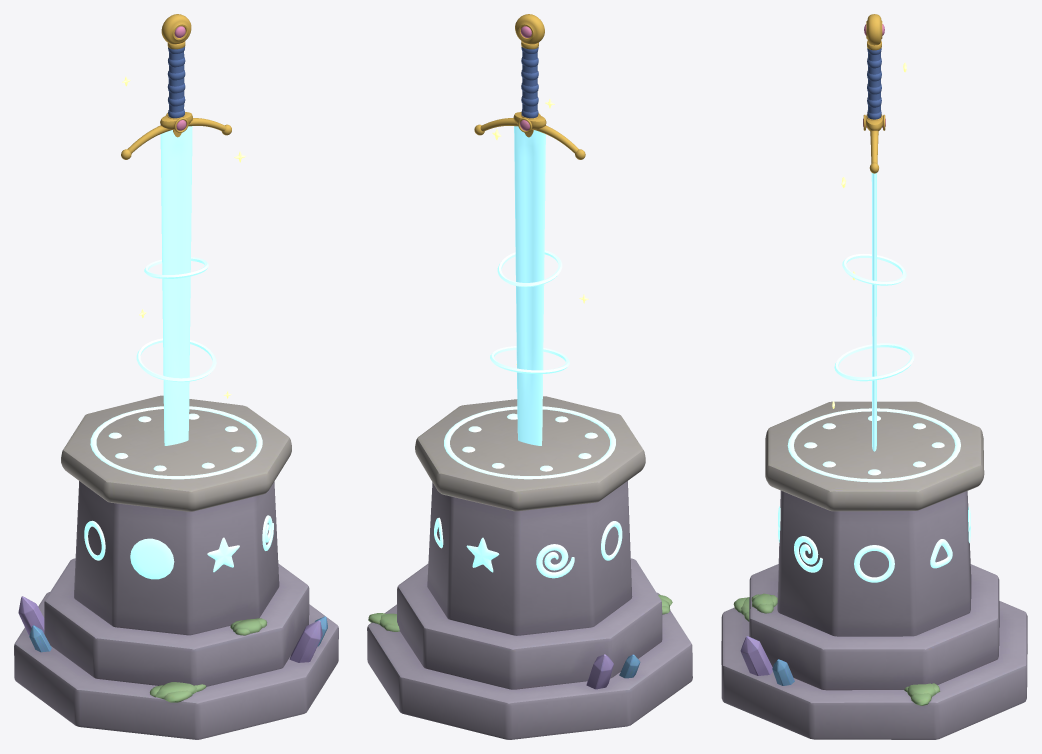
The model's file is enchanted-sword.glb.
3 views of the same model, side by side, from view 1: azimuth 30°, elevation 25°; view 2: azimuth 150°, elevation 25°; view 3: azimuth 270°, elevation 25° (orthographic).
Visible parts, largest first — view 1: enchanted-sword_body, enchanted-sword_weapon_blade_glow, enchanted-sword_rune_glow, enchanted-sword_weapon; view 2: enchanted-sword_body, enchanted-sword_weapon_blade_glow, enchanted-sword_rune_glow, enchanted-sword_weapon; view 3: enchanted-sword_body, enchanted-sword_rune_glow, enchanted-sword_weapon, enchanted-sword_weapon_blade_glow.
Boxes of the visible parts, <box> form: enchanted-sword_body: <box>14,395,338,739</box>; enchanted-sword_weapon_blade_glow: <box>160,126,192,445</box>; enchanted-sword_rune_glow: <box>84,257,273,579</box>; enchanted-sword_weapon: <box>121,14,231,159</box>; enchanted-sword_body: <box>367,396,692,739</box>; enchanted-sword_weapon_blade_glow: <box>514,126,545,445</box>; enchanted-sword_rune_glow: <box>434,250,622,578</box>; enchanted-sword_weapon: <box>474,14,585,159</box>; enchanted-sword_body: <box>721,401,1027,739</box>; enchanted-sword_rune_glow: <box>778,254,970,582</box>; enchanted-sword_weapon: <box>863,14,885,173</box>; enchanted-sword_weapon_blade_glow: <box>871,173,876,451</box>.
Bounding box in the file's own units: 0.6142 × 1.43 × 0.5999.
5 materials, 2 textured.
